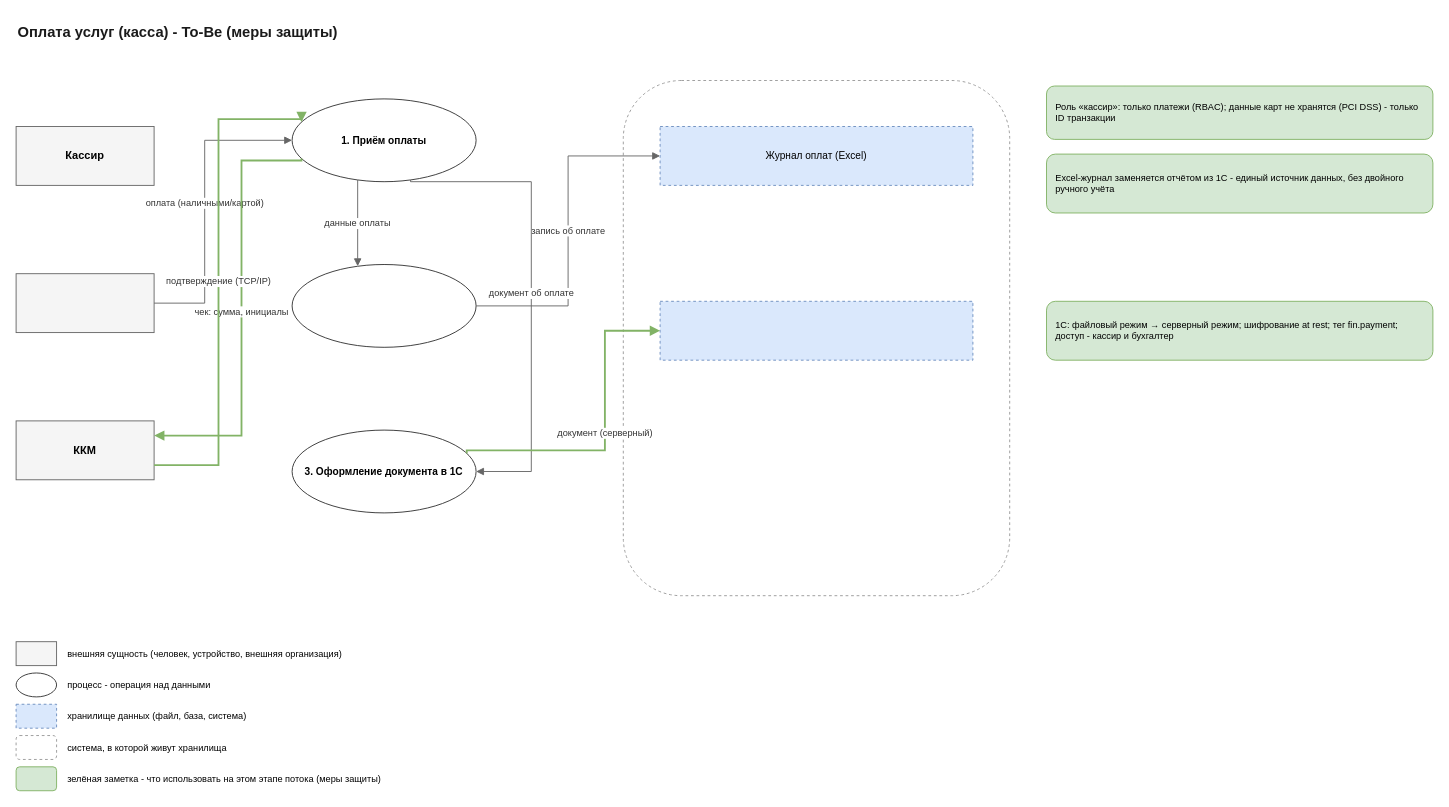
Image size: 1449x807. Some labels were removed from this diagram. Each missing label, with the box of its shape:
1С:Бухгалтерия (файловый режим): (659, 300, 973, 360)
2. Учёт оплаты в Excel: (291, 264, 476, 347)
FileServer - общий диск (1С в файловом режиме): (622, 80, 1010, 596)
Пациент: (15, 273, 154, 333)
